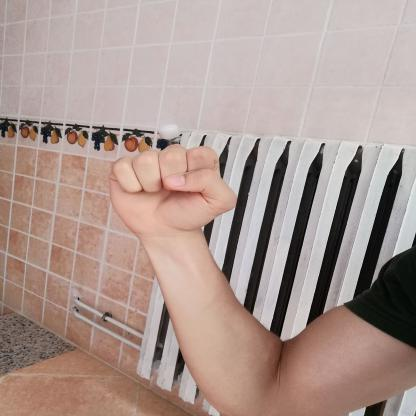SAD: (88, 132, 250, 243)
